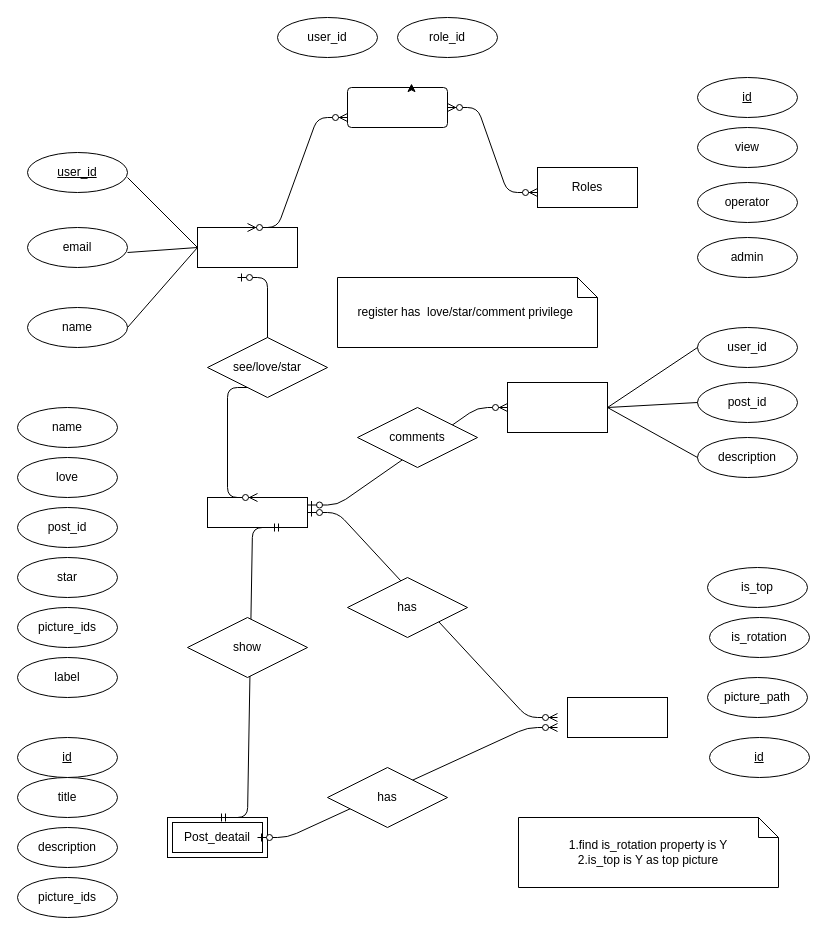
The diagram is 827 pixels wide and 935 high, and some of its shapes have lost their labels. Each missing label, with the box of its shape:
comment: (506, 382, 608, 432)
picture: (566, 696, 668, 738)
Post: (206, 496, 308, 528)
User: (196, 226, 298, 268)
User_Roles: (346, 86, 448, 128)
